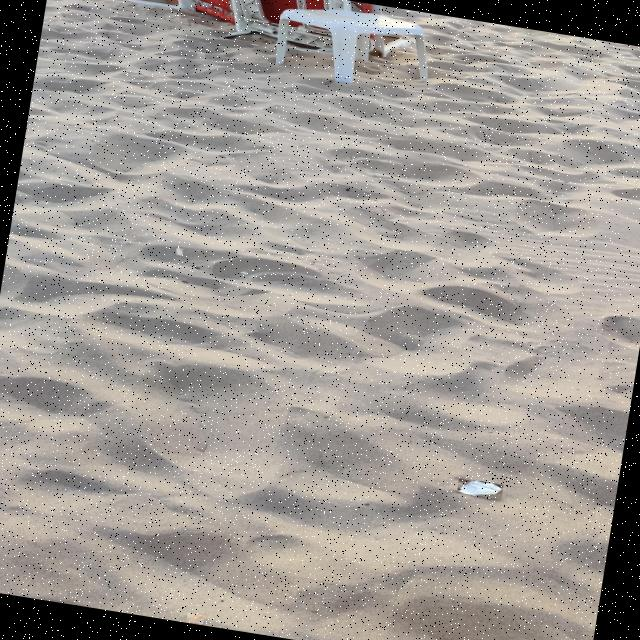Cigarette: (186, 615, 204, 623)
Plastic film: (457, 482, 503, 496)
Unlabeled litter: (176, 248, 183, 256), (243, 273, 248, 274)
